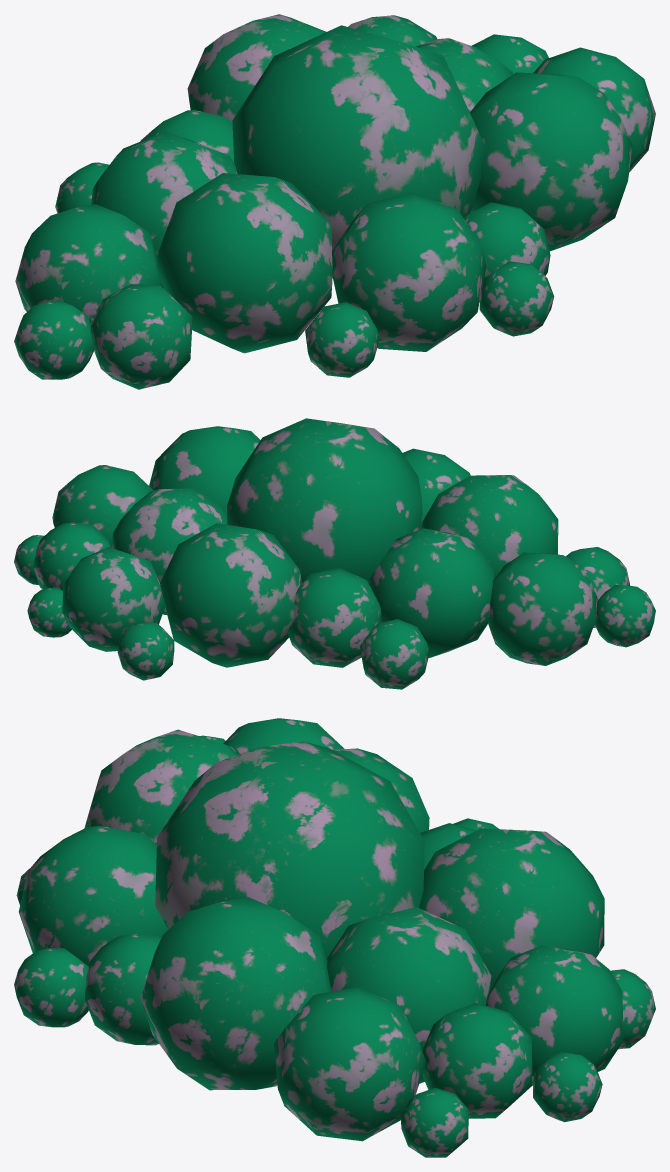
File: elongatedSeaPearl02.fbx
3 renders of one model, top to bottom at view 1: azimuth 30°, elevation 25°; view 2: azimuth 150°, elevation 25°; view 3: azimuth 270°, elevation 25°, orthographic. The views are drawn at different scales.
Parts seen in each view (by area): view 1: elongatedSeaPearl02; view 2: elongatedSeaPearl02; view 3: elongatedSeaPearl02.
Part boxes in pixels (x1,y1,x2,y2): elongatedSeaPearl02: (14, 14, 655, 389); elongatedSeaPearl02: (14, 418, 655, 689); elongatedSeaPearl02: (14, 718, 655, 1157).
Size of the model in its own units: 0.527 by 0.1669 by 0.3845.
Materials: 1 (1 with a texture image).
